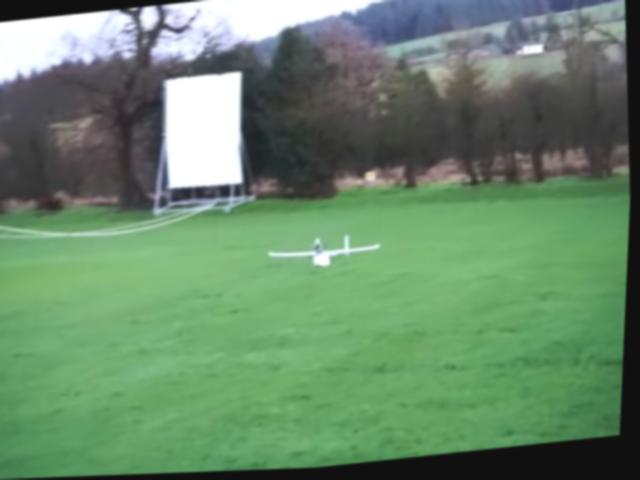uav: (261, 223, 390, 290)
